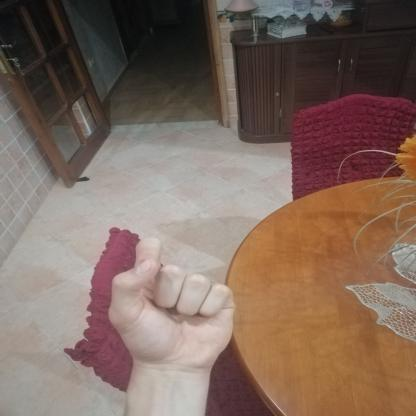FAA: (96, 231, 248, 381)
